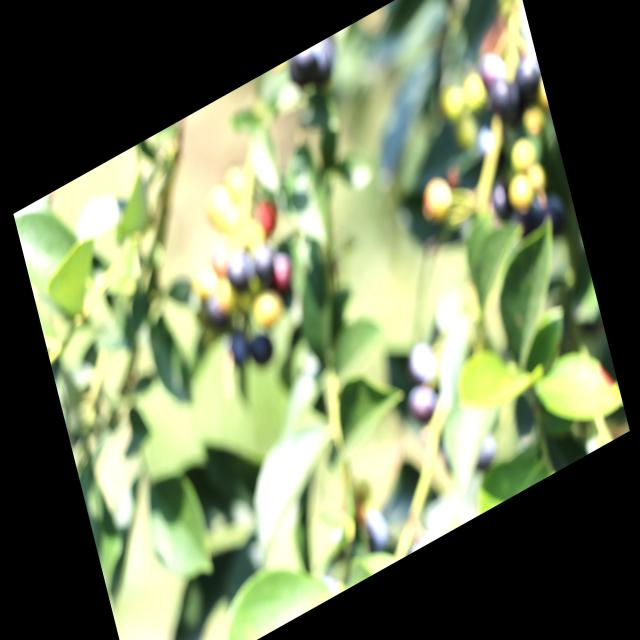blueberry: (402, 378, 439, 429), (222, 247, 256, 295), (253, 242, 278, 288)
blueberry-unripe: (414, 165, 460, 233), (504, 166, 538, 219), (506, 132, 538, 178), (252, 286, 284, 332)
